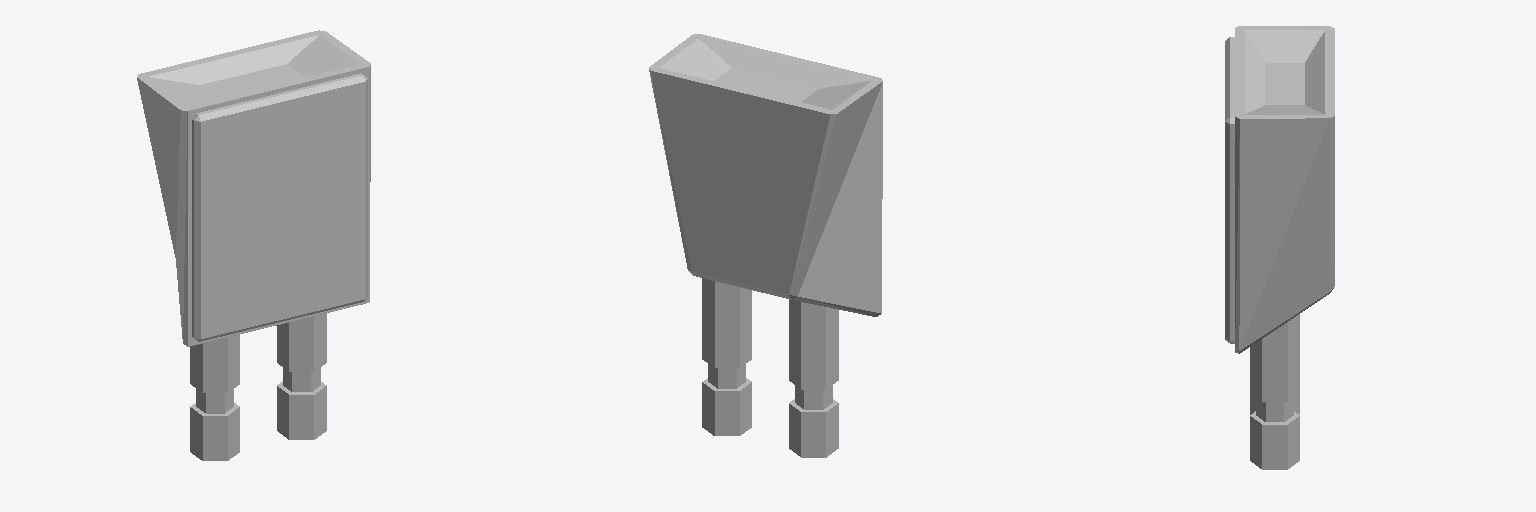
File: Greenate Noclip Board GMOD.obj
3 renders of one model, left to right at view 1: azimuth 30°, elevation 25°; view 2: azimuth 150°, elevation 25°; view 3: azimuth 270°, elevation 25°, orthographic.
Visible parts, largest first — view 1: Hoverboard_Plane; view 2: Hoverboard_Plane; view 3: Hoverboard_Plane.
Boxes of the visible parts, <box> form: Hoverboard_Plane: <box>137,30,370,460</box>; Hoverboard_Plane: <box>649,34,882,457</box>; Hoverboard_Plane: <box>1225,26,1334,469</box>.
Size of the model in its own units: 2.2 by 4.05 by 1.1.